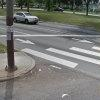Crosswalk: (23, 41, 100, 83)
